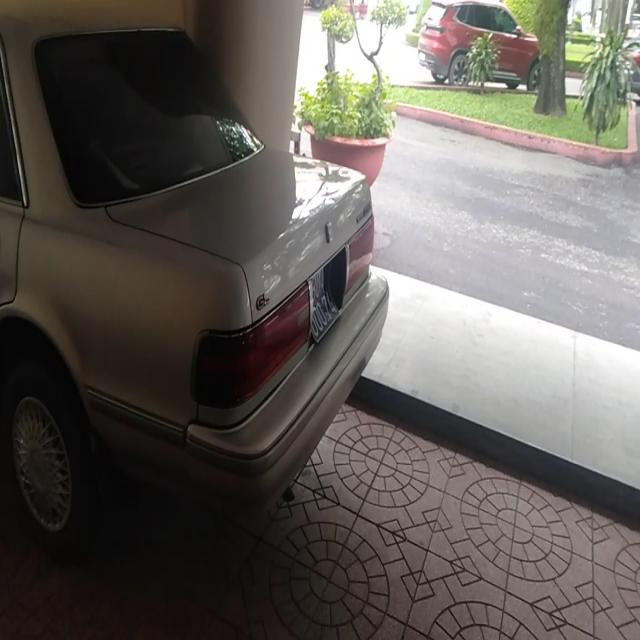bien_xanh: (301, 265, 345, 340)
